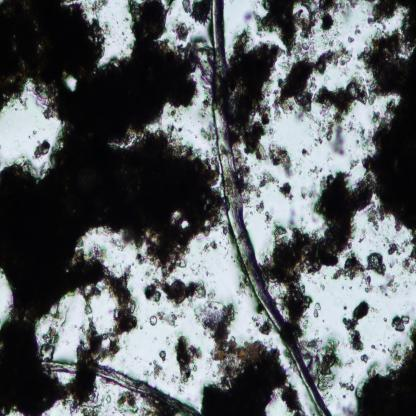Background material: (0, 0, 227, 410), (271, 172, 370, 313), (361, 1, 416, 242), (195, 298, 304, 416), (67, 249, 142, 360), (347, 319, 416, 415), (271, 41, 352, 117), (227, 30, 278, 149), (312, 80, 374, 156), (253, 0, 340, 52), (69, 319, 110, 412), (240, 134, 293, 200), (305, 330, 346, 392), (341, 250, 390, 288), (341, 298, 372, 353), (173, 334, 203, 385), (254, 199, 289, 239), (387, 238, 416, 272), (182, 1, 212, 32), (388, 311, 414, 339), (144, 276, 170, 303), (29, 136, 52, 164), (116, 391, 144, 414), (150, 310, 178, 331), (381, 276, 406, 299), (150, 350, 168, 378), (197, 235, 220, 256), (254, 316, 273, 337), (189, 278, 206, 300), (353, 348, 372, 367), (175, 20, 189, 42), (297, 186, 318, 199), (310, 298, 322, 320), (298, 144, 310, 162)
Cellulose filter fibre: (39, 361, 202, 415)
Diatom: (168, 279, 188, 303)
Microfibre: (211, 0, 330, 416)
